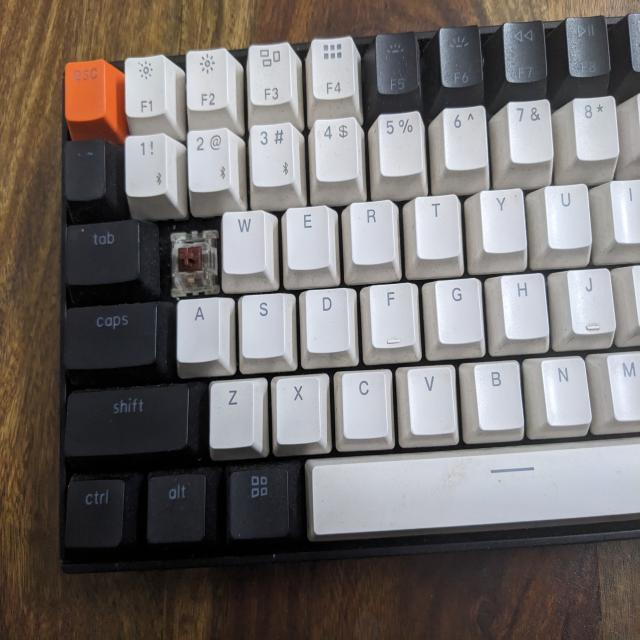key-switch: (168, 229, 218, 291)
